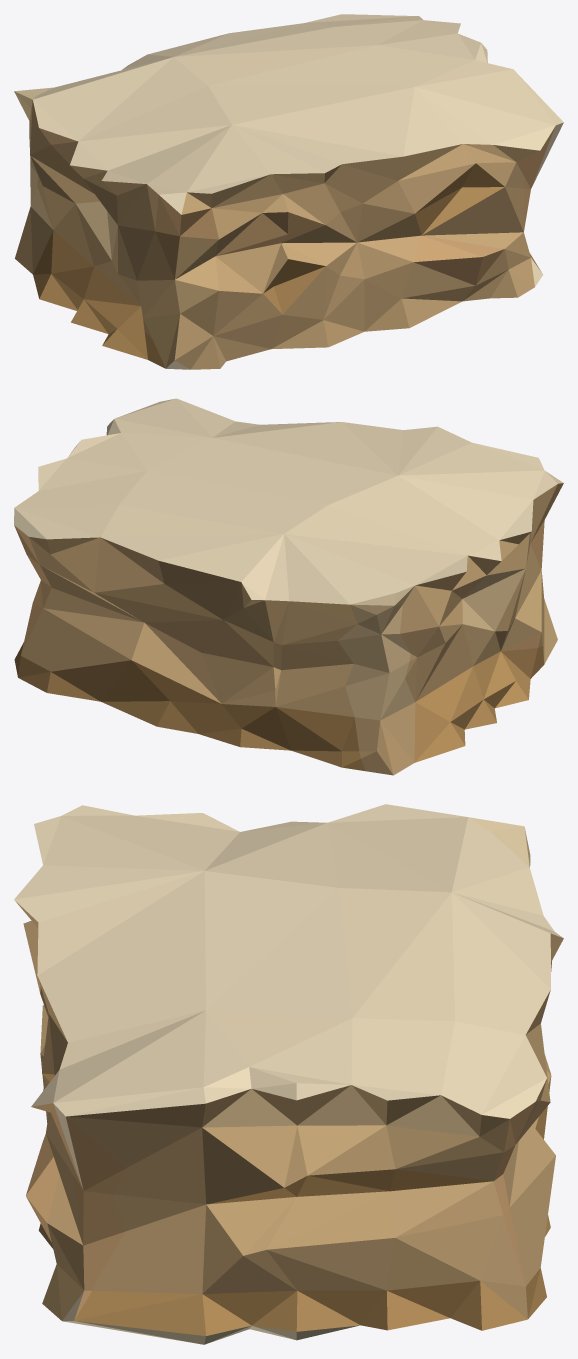
File: EA_M_HayBale_Square_Dry_01b.fbx
3 views of the same model, one above another, from view 1: azimuth 30°, elevation 25°; view 2: azimuth 150°, elevation 25°; view 3: azimuth 270°, elevation 25° (orthographic). The views are drawn at different scales.
Visible parts, largest first — view 1: EA_M_HayBale_Square_Dry_01b_LOD0; view 2: EA_M_HayBale_Square_Dry_01b_LOD0; view 3: EA_M_HayBale_Square_Dry_01b_LOD0.
Boxes of the visible parts, x1=… form: EA_M_HayBale_Square_Dry_01b_LOD0: x1=14, y1=14, x2=563, y2=369; EA_M_HayBale_Square_Dry_01b_LOD0: x1=14, y1=398, x2=563, y2=775; EA_M_HayBale_Square_Dry_01b_LOD0: x1=14, y1=804, x2=563, y2=1344.
Size of what is drawn, in the model's own units: 1.82 by 0.8093 by 1.39.
